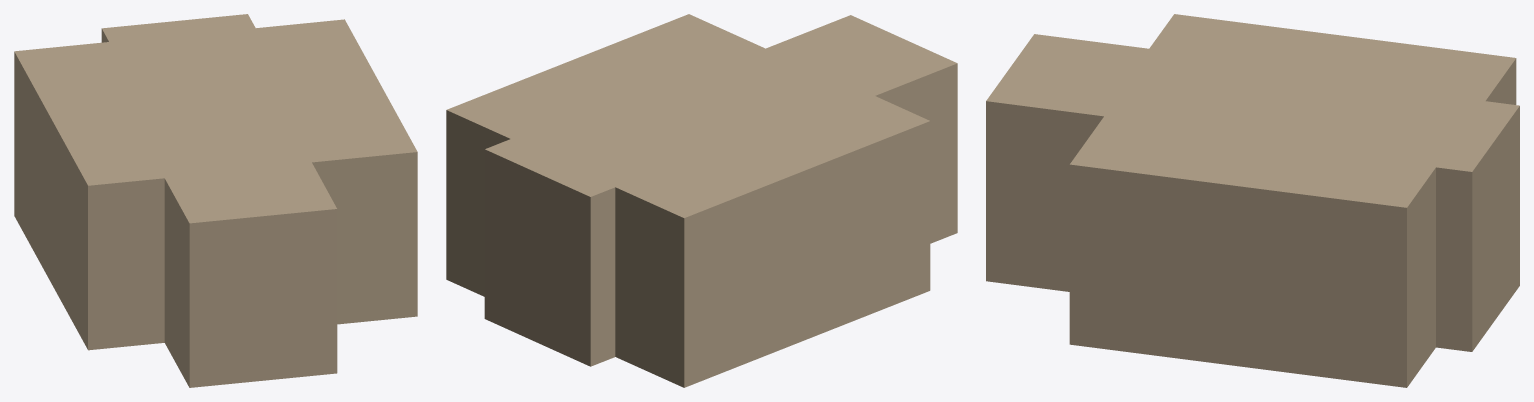
Rendered from bld_101524477.dae.
3 renders of one model, left to right at view 1: azimuth 30°, elevation 25°; view 2: azimuth 150°, elevation 25°; view 3: azimuth 270°, elevation 25°, orthographic. The views are drawn at different scales.
Parts seen in each view (by area): view 1: bld_101524477; view 2: bld_101524477; view 3: bld_101524477.
Boxes of the visible parts, <box> form: bld_101524477: <box>14,14,417,387</box>; bld_101524477: <box>446,14,957,387</box>; bld_101524477: <box>986,14,1519,387</box>.
Size of the model in its own units: 18.47 by 21.49 by 8.
